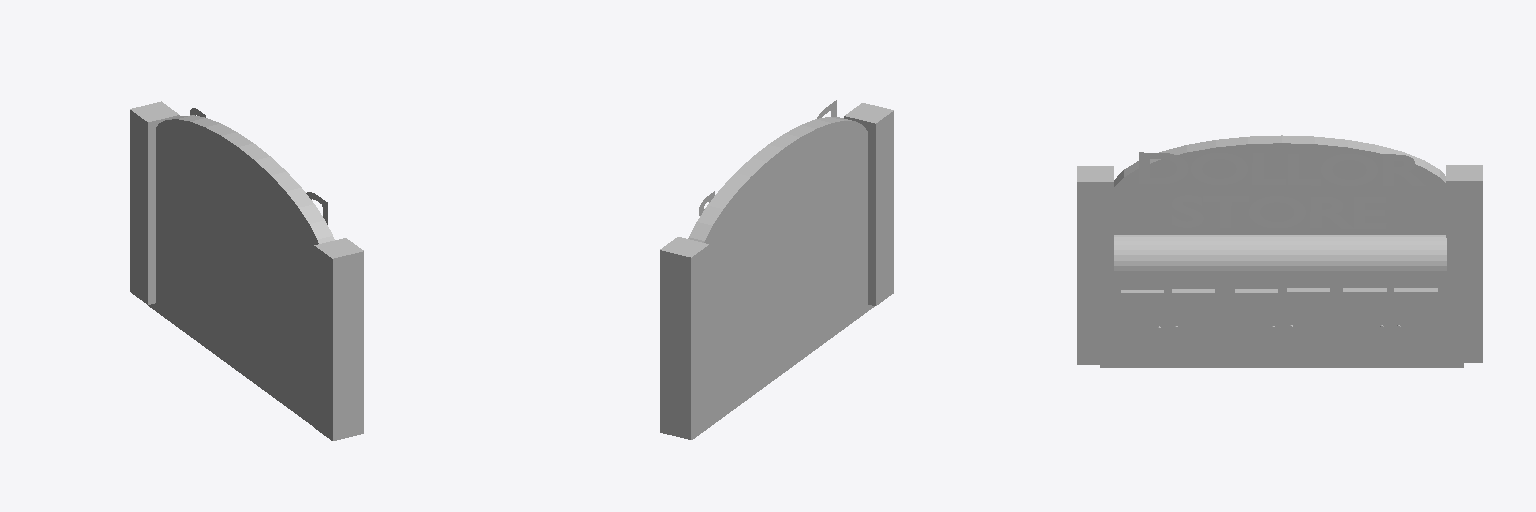
Rendered from dollor store.obj.
The picture shows the model from 3 angles: view 1: azimuth 30°, elevation 25°; view 2: azimuth 150°, elevation 25°; view 3: azimuth 270°, elevation 25°; orthographic projection.
Visible parts, largest first — view 1: Cylinder, Cube.001_Cube.002, Cube_Cube.001; view 2: Cylinder, Cube_Cube.001, Cube.001_Cube.002; view 3: Cylinder, Cylinder.001, Dollar_Store, Cube.001_Cube.002, Cube_Cube.001, Cylinder.007, Cylinder.008, Cylinder.003, Cylinder.002, Cylinder.005, Cylinder.006.
Part boxes in pixels (x1,y1,x2,y2): Cylinder: (148, 115, 334, 426); Cube.001_Cube.002: (314, 238, 363, 440); Cube_Cube.001: (130, 101, 179, 304); Cylinder: (688, 117, 874, 438); Cube_Cube.001: (660, 237, 709, 439); Cube.001_Cube.002: (844, 103, 893, 305); Cylinder: (1100, 135, 1463, 367); Cylinder.001: (1114, 235, 1446, 270); Dollar_Store: (1139, 152, 1425, 228); Cube.001_Cube.002: (1077, 166, 1113, 364); Cube_Cube.001: (1446, 165, 1482, 362); Cylinder.007: (1343, 288, 1386, 363); Cylinder.008: (1394, 288, 1437, 362); Cylinder.003: (1287, 288, 1329, 363); Cylinder.002: (1235, 289, 1277, 363); Cylinder.005: (1172, 289, 1214, 363); Cylinder.006: (1121, 290, 1163, 364).
Bounding box in the file's own units: 6.26 × 27.05 × 44.31.